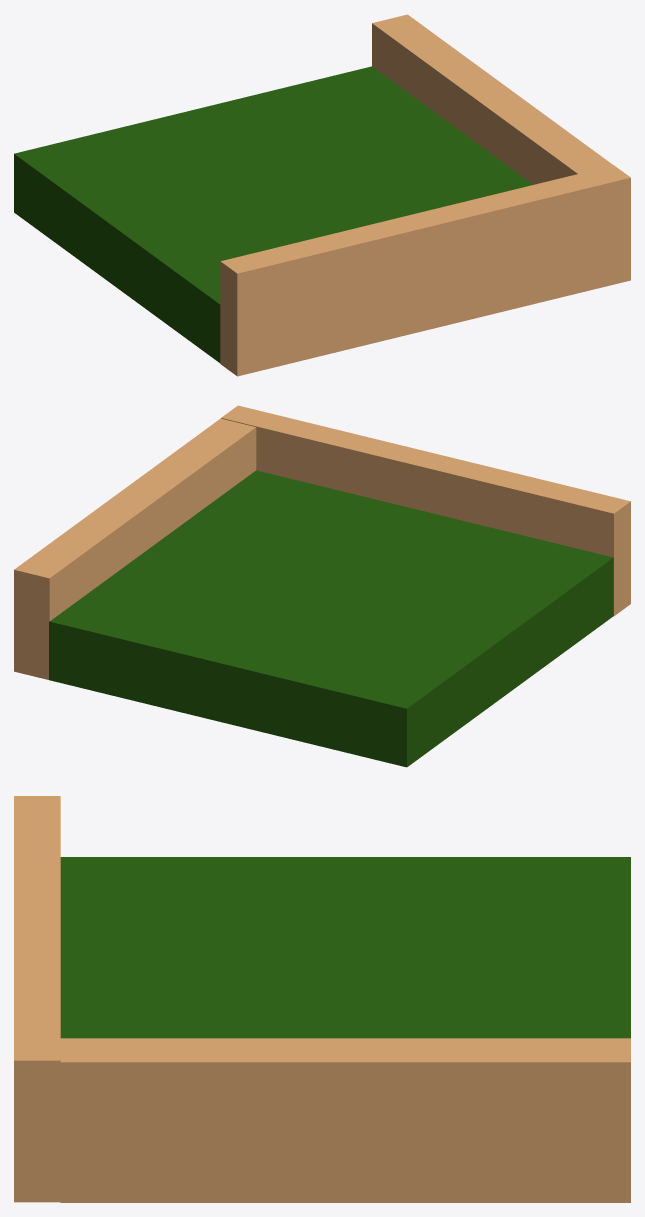
File: TestCornerfix.fbx
3 renders of one model, top to bottom at view 1: azimuth 30°, elevation 25°; view 2: azimuth 150°, elevation 25°; view 3: azimuth 270°, elevation 25°, orthographic. The views are drawn at different scales.
Parts seen in each view (by area): view 1: Cube.029, Cube.031; view 2: Cube.029, Cube.031; view 3: Cube.031, Cube.029.
Part boxes in pixels (left/top/right/bottom): Cube.029: left=14, top=66, right=533, bottom=362; Cube.031: left=220, top=14, right=630, bottom=376; Cube.029: left=49, top=470, right=613, bottom=767; Cube.031: left=14, top=405, right=630, bottom=679; Cube.031: left=14, top=796, right=630, bottom=1202; Cube.029: left=60, top=857, right=630, bottom=1038.
Bounding box in the file's own units: 168 × 41.99 × 166.
